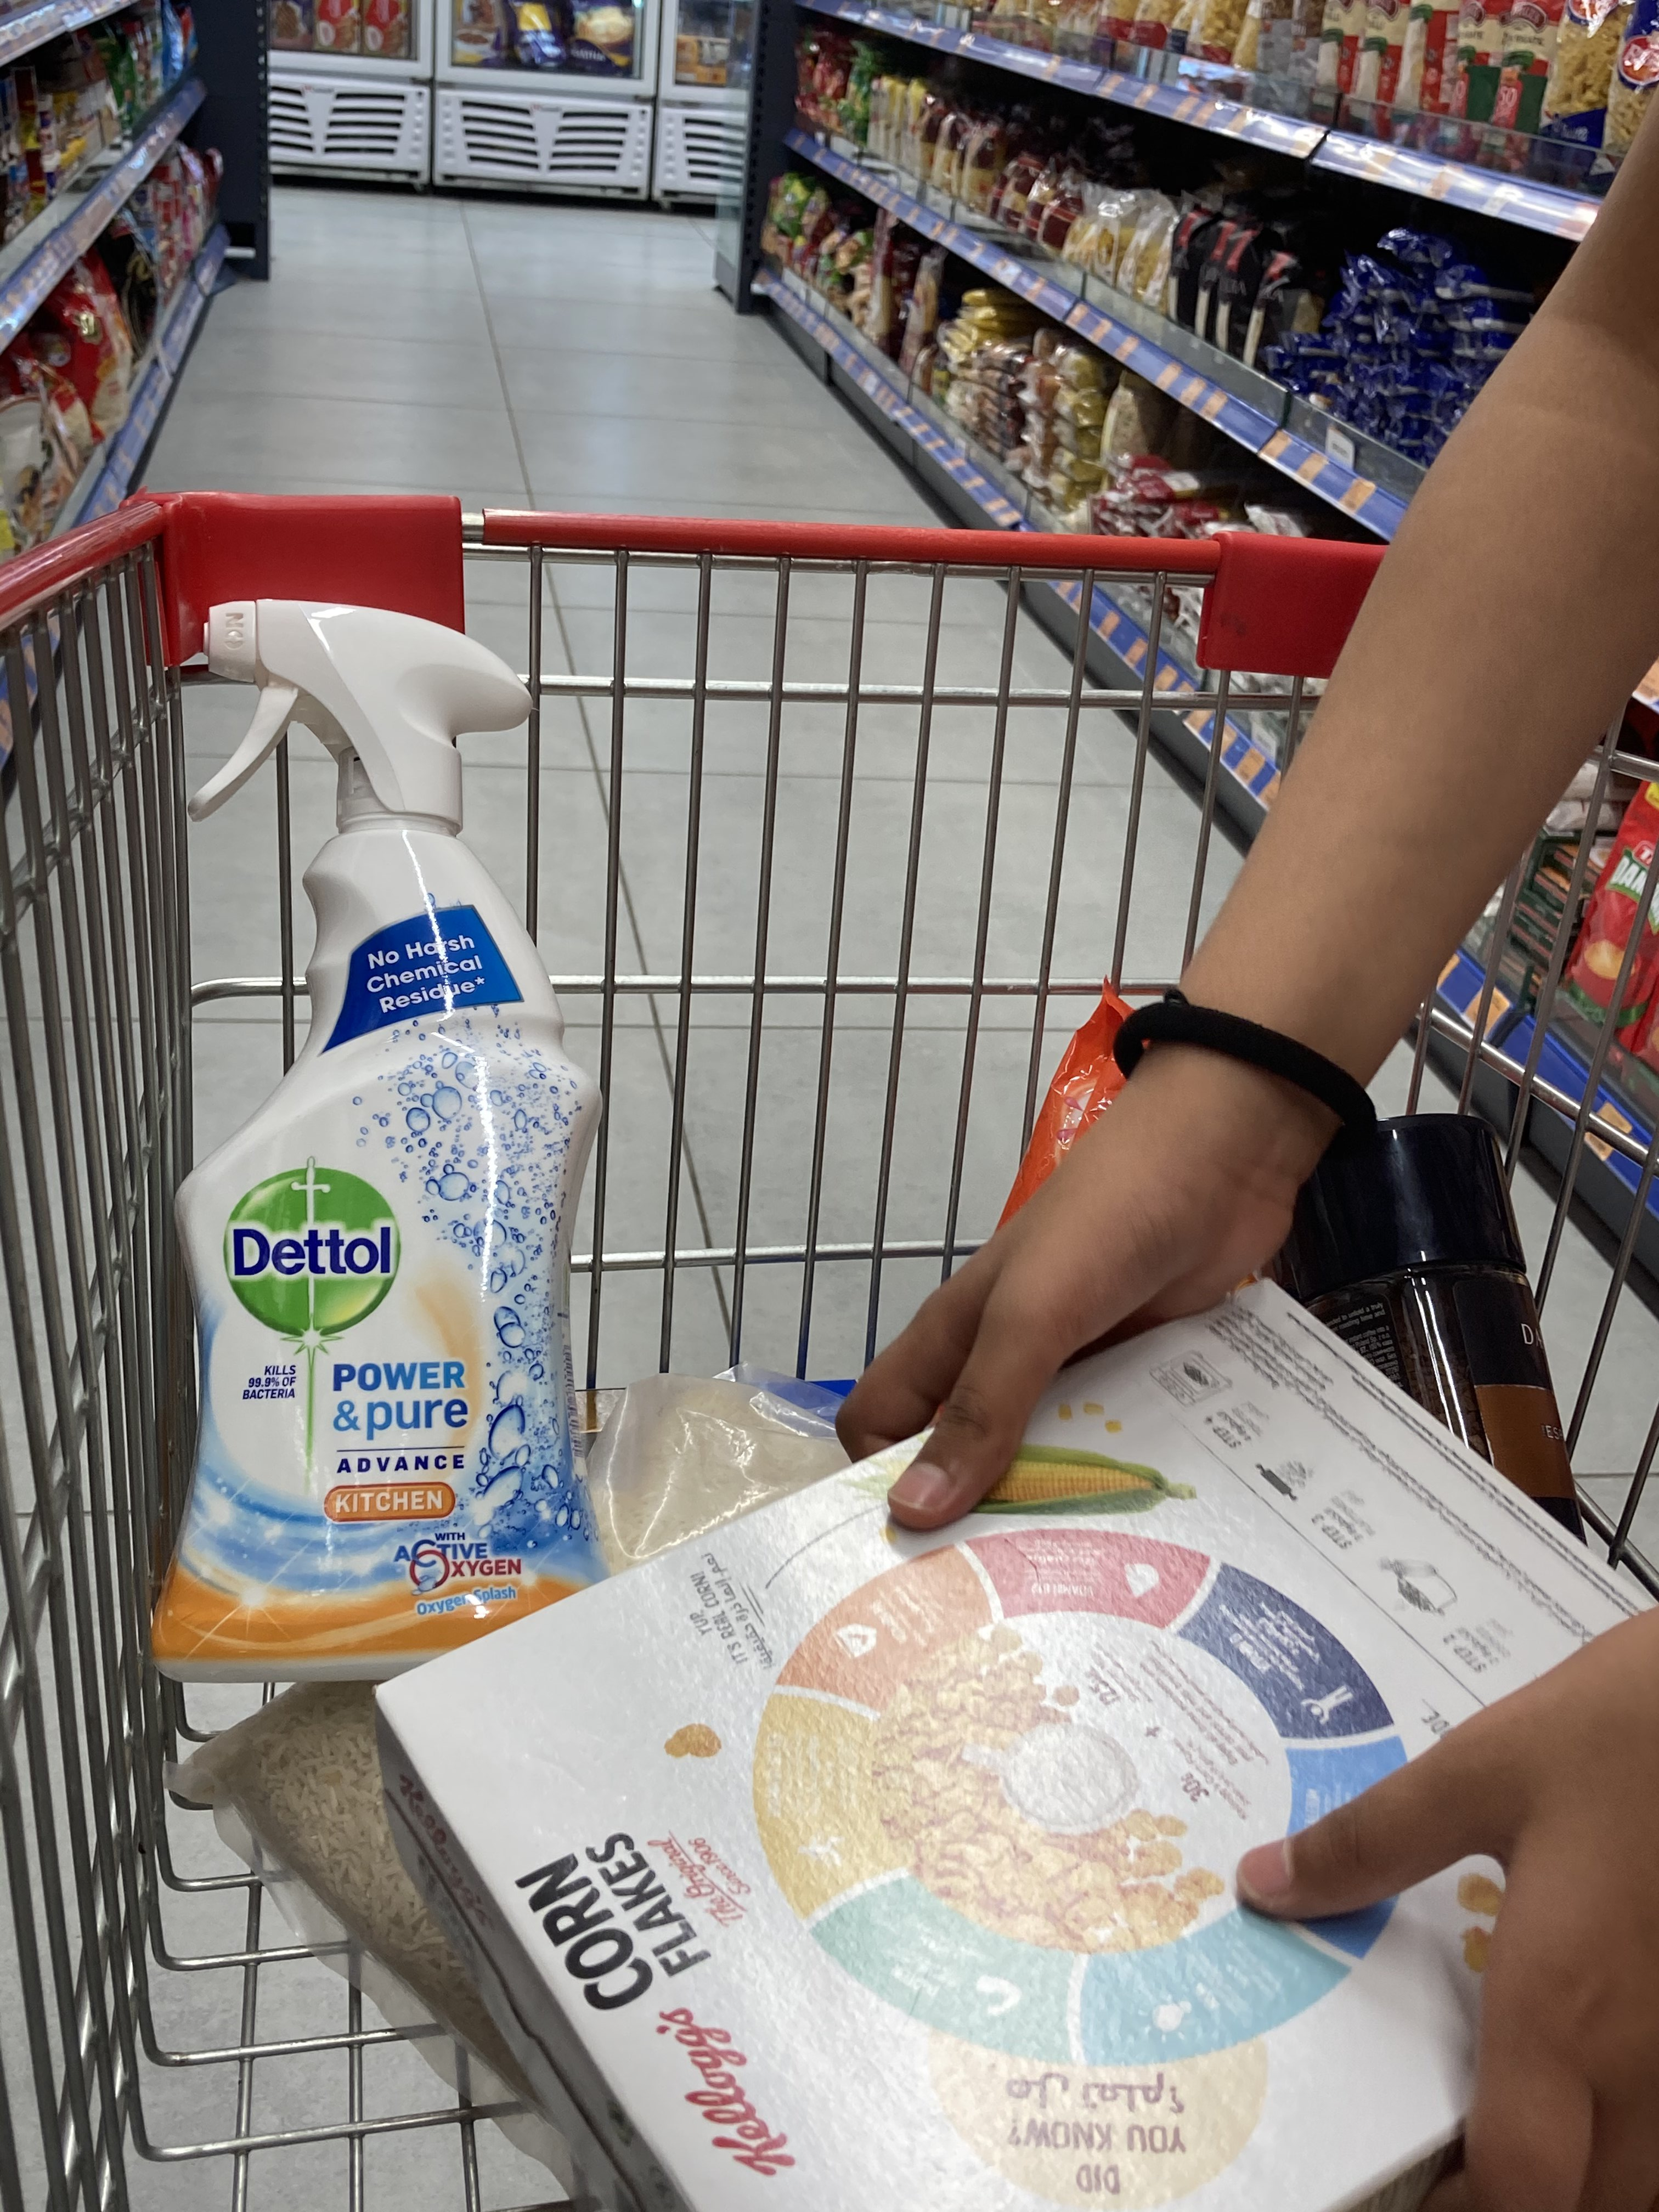Kellogg's Corn Flakes: (368, 1268, 1659, 2212)
